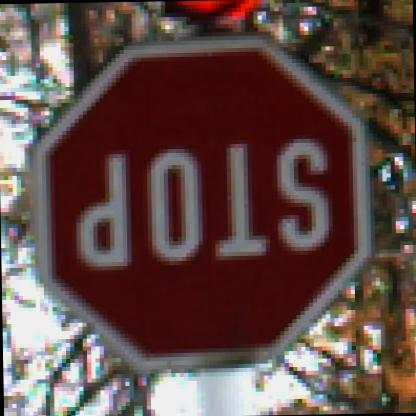stop: (24, 34, 382, 376)
